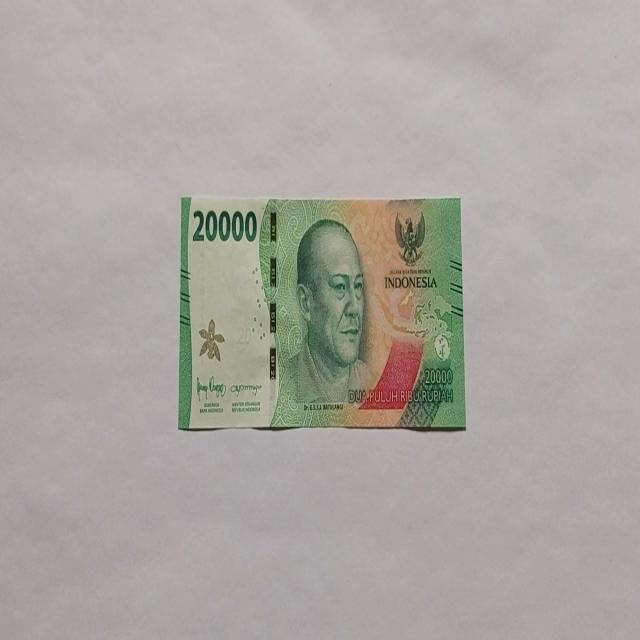dua puluh ribu rupiah: (178, 194, 466, 432)
